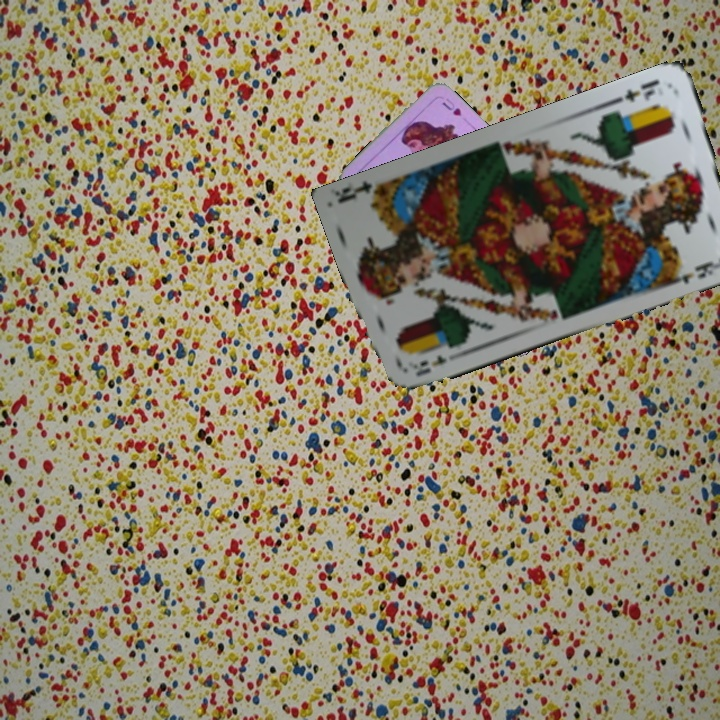EK: (611, 75, 662, 106), (406, 351, 450, 379)
